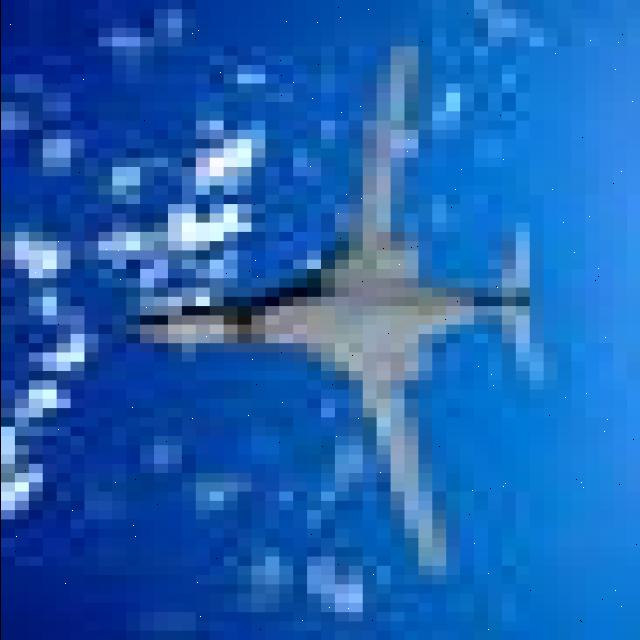B1: (120, 32, 573, 590)
